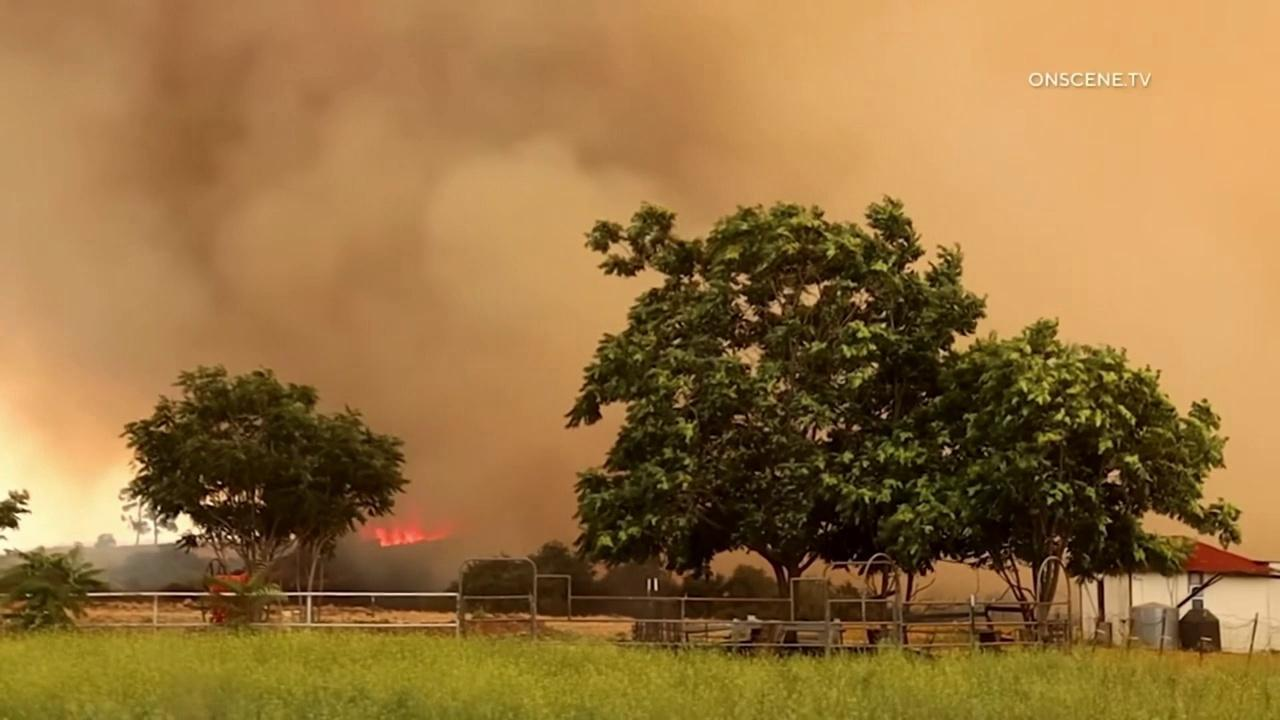fire: (359, 510, 452, 547)
smoke: (0, 0, 1280, 593)
